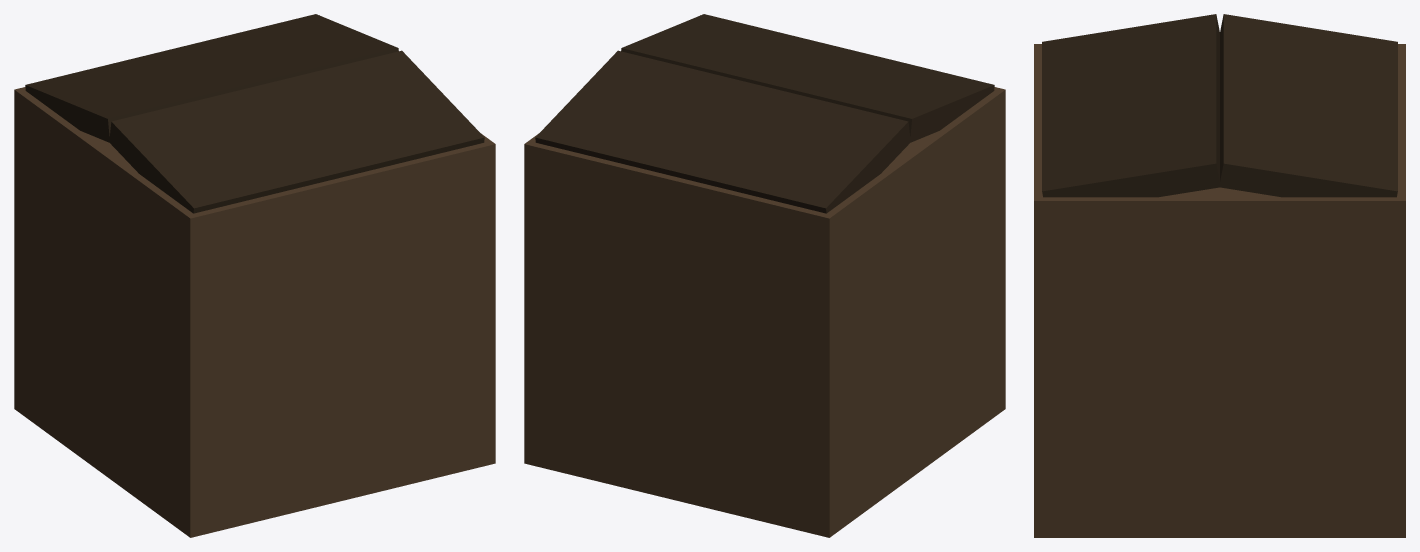
File: welt_kiste.glb
The picture shows the model from 3 angles, left to right: view 1: azimuth 30°, elevation 25°; view 2: azimuth 150°, elevation 25°; view 3: azimuth 270°, elevation 25°; orthographic projection. The views are drawn at different scales.
Visible parts, largest first — view 1: koerper, klappe_a, klappe_b; view 2: koerper, klappe_b, klappe_a; view 3: koerper, klappe_a, klappe_b.
Boxes of the visible parts, x1=… form: koerper: x1=14, y1=15, x2=495, y2=537; klappe_a: x1=109, y1=50, x2=484, y2=213; klappe_b: x1=25, y1=14, x2=398, y2=142; koerper: x1=524, y1=15, x2=1005, y2=537; klappe_b: x1=535, y1=50, x2=910, y2=213; klappe_a: x1=621, y1=14, x2=994, y2=142; koerper: x1=1034, y1=44, x2=1405, y2=537; klappe_a: x1=1042, y1=14, x2=1220, y2=197; klappe_b: x1=1219, y1=14, x2=1397, y2=197.
Bounding box in the file's own units: 0.42 × 0.4621 × 0.42.
